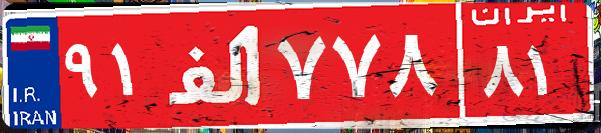1: (110, 28, 158, 105), (525, 38, 570, 115)
7: (273, 28, 330, 110), (330, 28, 385, 110)
8: (385, 28, 445, 110), (475, 38, 525, 113)
9: (57, 26, 110, 107)
الف: (158, 15, 273, 115)
